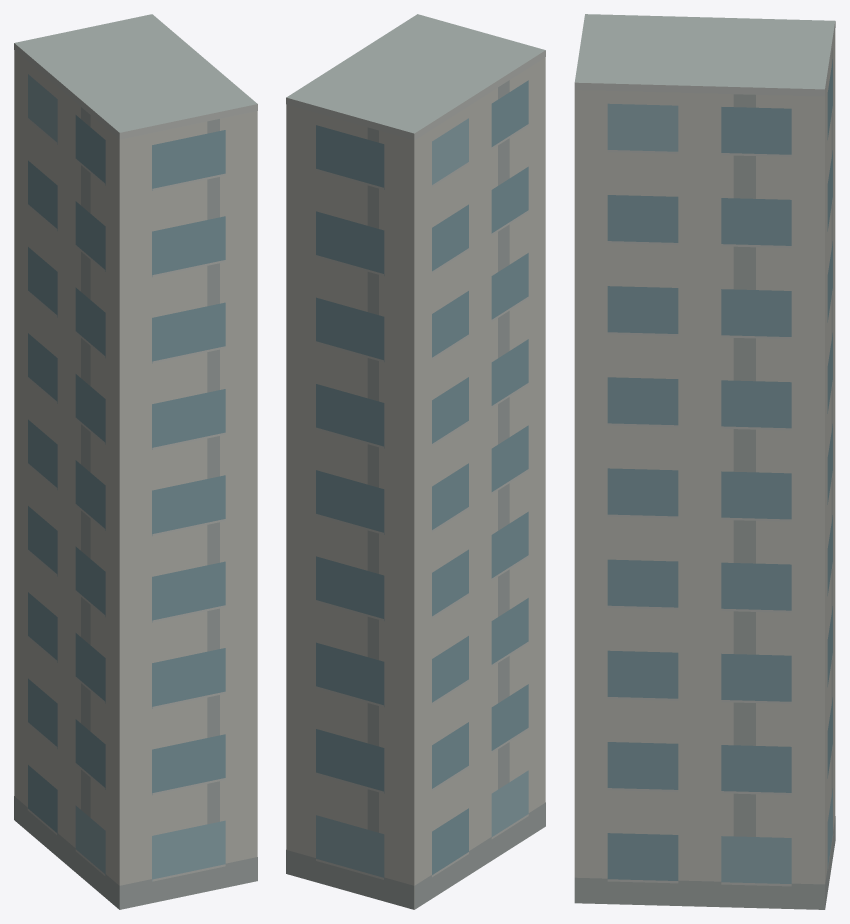
File: survey-upis-32636160.glb
3 views of the same model, side by side, from view 1: azimuth 30°, elevation 25°; view 2: azimuth 150°, elevation 25°; view 3: azimuth 270°, elevation 25° (orthographic). The views are drawn at different scales.
Visible parts, largest first — view 1: survey-upis-32636160.tmp; view 2: survey-upis-32636160.tmp; view 3: survey-upis-32636160.tmp.
Boxes of the visible parts, <box> form: survey-upis-32636160.tmp: <box>14,14,257,909</box>; survey-upis-32636160.tmp: <box>286,14,545,909</box>; survey-upis-32636160.tmp: <box>574,14,835,909</box>.
Size of the model in its own units: 5.42 by 27.45 by 7.92.
